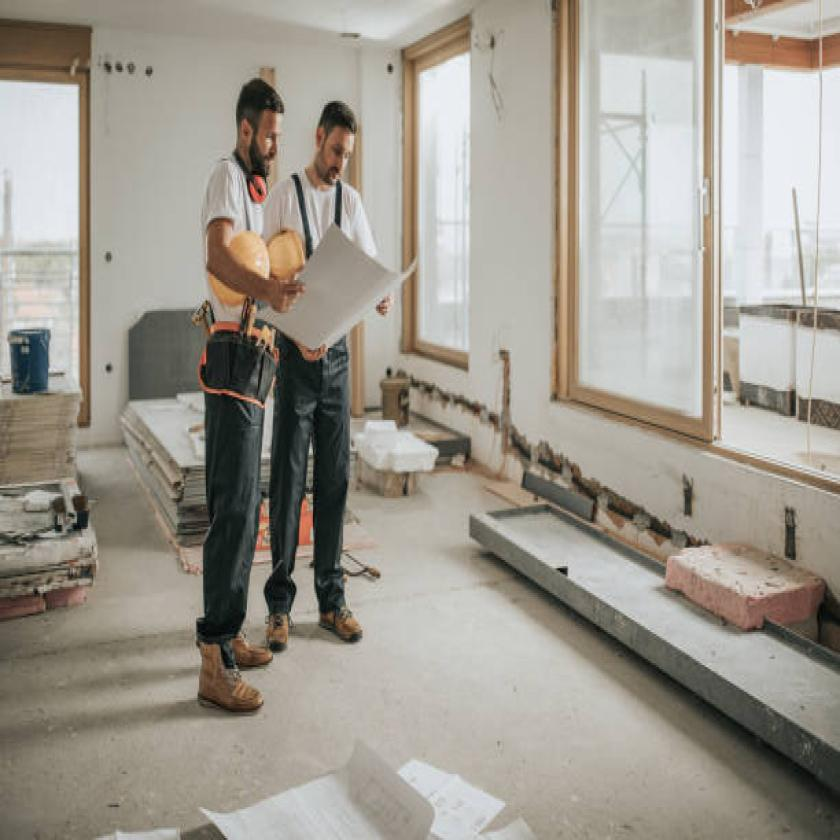Sin_casco: (224, 47, 290, 219), (312, 96, 363, 201)
